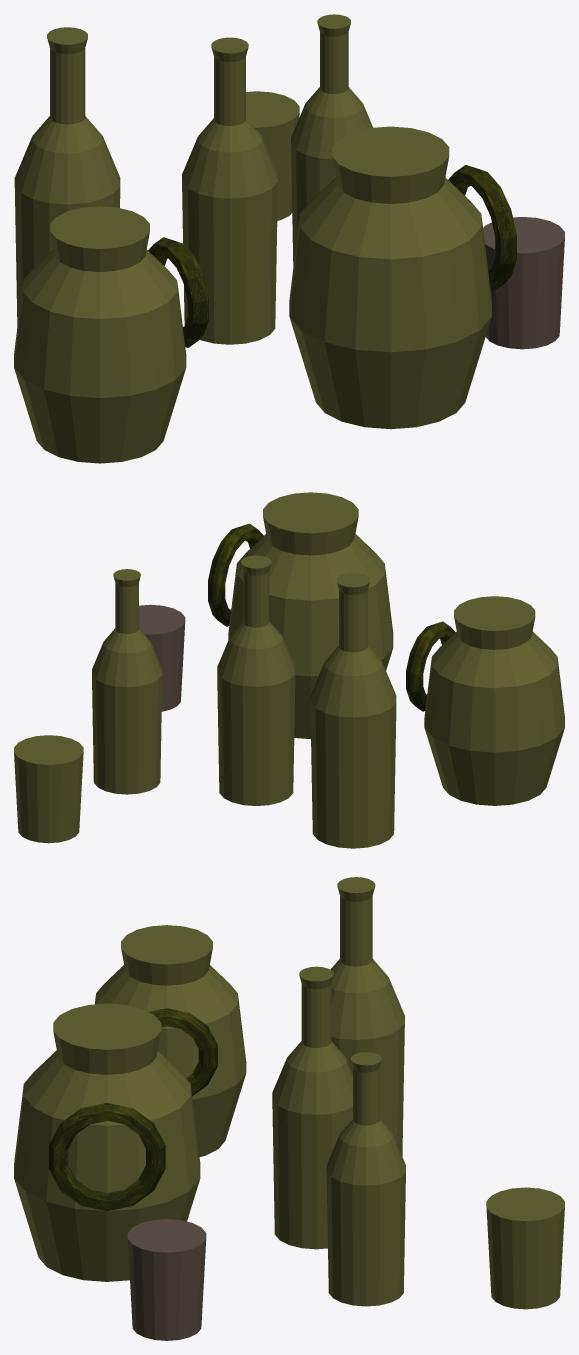
The model's file is bottles-jugs-v01.glb.
3 renders of one model, top to bottom at view 1: azimuth 30°, elevation 25°; view 2: azimuth 150°, elevation 25°; view 3: azimuth 270°, elevation 25°, orthographic. The views are drawn at different scales.
Visible parts, largest first — view 1: bottles-jugs; view 2: bottles-jugs; view 3: bottles-jugs.
Boxes of the visible parts, x1=… form: bottles-jugs: x1=14, y1=14, x2=564, y2=463; bottles-jugs: x1=14, y1=492, x2=564, y2=848; bottles-jugs: x1=14, y1=877, x2=564, y2=1340.
Size of the model in its own units: 1.14 by 0.627 by 1.11.
Materials: 3 (3 with a texture image).
